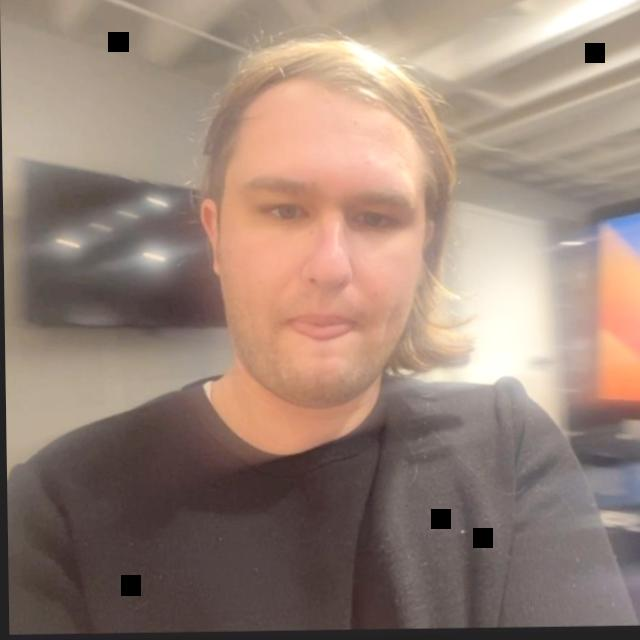NO-Mask: (169, 25, 449, 466)
